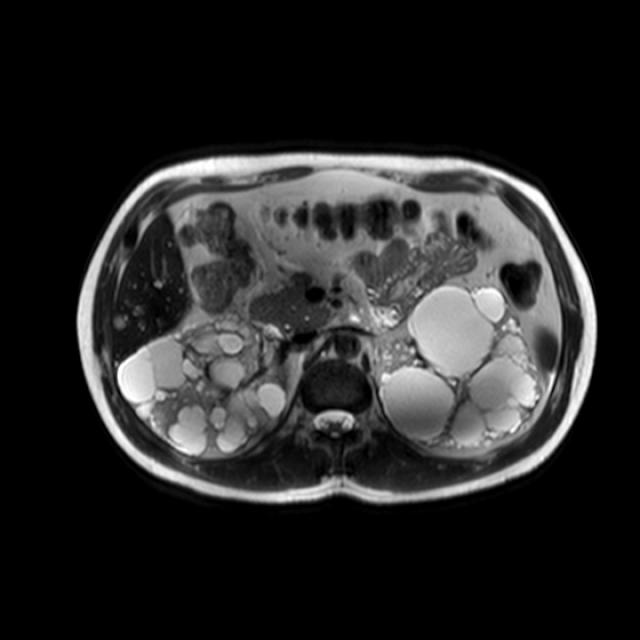sag: (115, 310, 291, 458)
sol: (375, 285, 545, 454)
